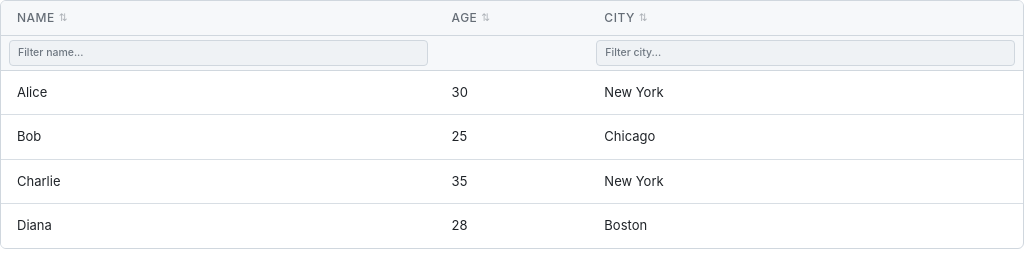
DataTable › filters by text input
Type "ali" into the field labelled "Filter name" at (218, 53), box [9,40,428,66]
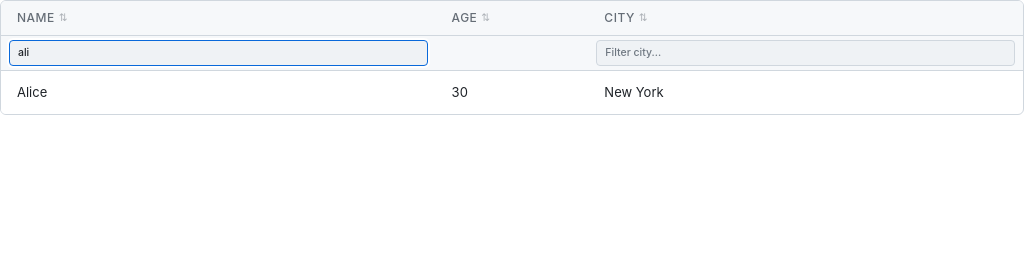
Expected: the text "Bob" is gone
Expected: the text "Charlie" is gone
Expected: the text "Diana" is gone
